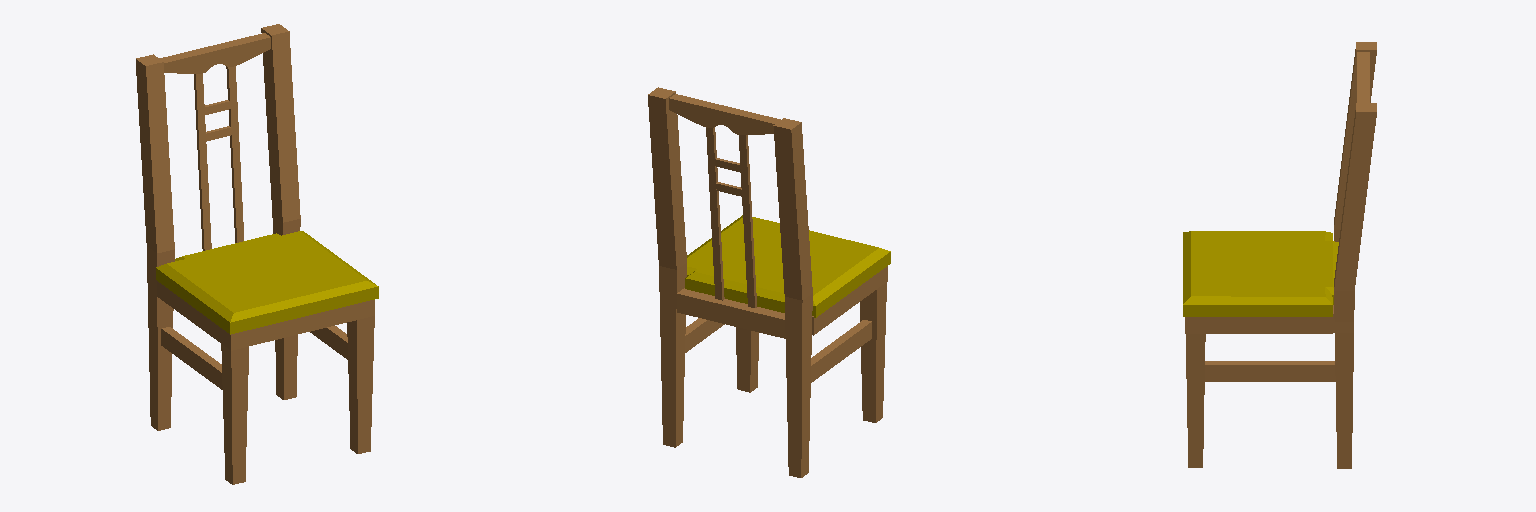
The model's file is chaiseJaune.obj.
3 views of the same model, side by side, from view 1: azimuth 30°, elevation 25°; view 2: azimuth 150°, elevation 25°; view 3: azimuth 270°, elevation 25° (orthographic).
Visible parts, largest first — view 1: CHAIRS_SKELETON, CHAIRS_SEAT; view 2: CHAIRS_SKELETON, CHAIRS_SEAT; view 3: CHAIRS_SKELETON, CHAIRS_SEAT.
Part boxes in pixels (bbox=[...]): CHAIRS_SKELETON: bbox=[136, 24, 374, 484]; CHAIRS_SEAT: bbox=[156, 231, 378, 334]; CHAIRS_SKELETON: bbox=[648, 87, 887, 477]; CHAIRS_SEAT: bbox=[685, 215, 890, 317]; CHAIRS_SKELETON: bbox=[1185, 42, 1376, 468]; CHAIRS_SEAT: bbox=[1183, 231, 1338, 316].
Bounding box in the file's own units: 41.23 × 95 × 46.7.